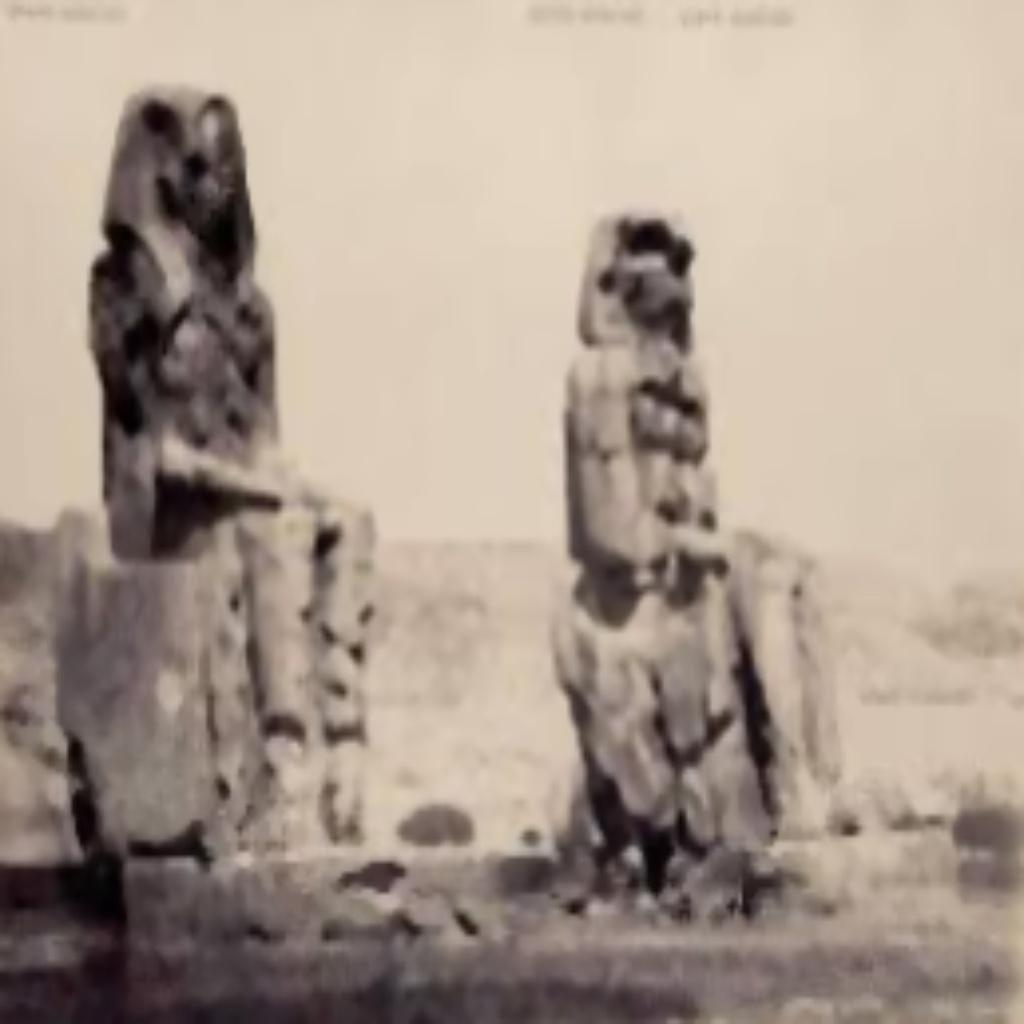Colossoi of Memnon: (44, 73, 377, 888), (544, 198, 850, 930)
